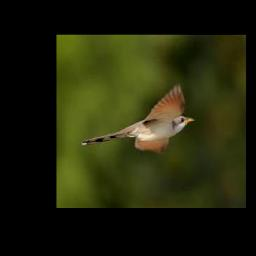Cuckoo: (81, 85, 194, 150)
